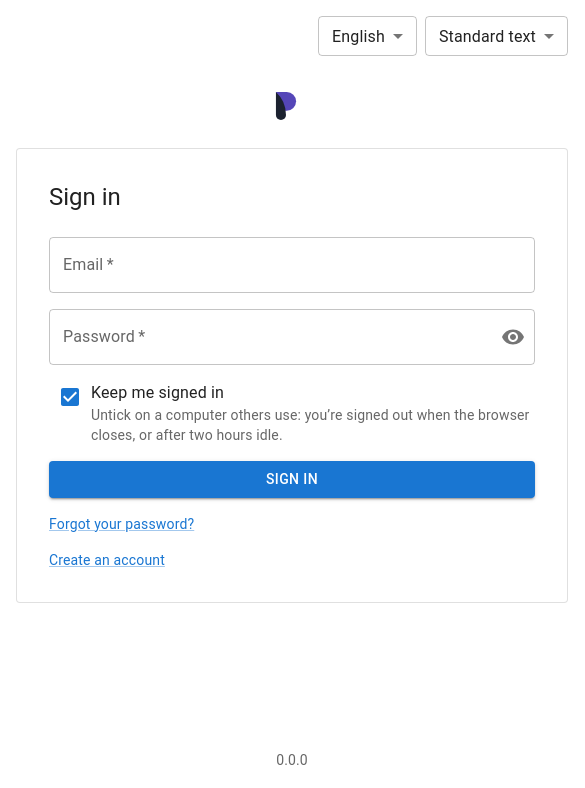
Test case: LoginPage refused as outdated › says the new version is being installed, then, once it is out, to reload
The width and height of the screenshot is (585, 788).
Step 1. Type "mei@example.com" into the field labelled "Email" → (292, 265), box [49, 237, 535, 293]
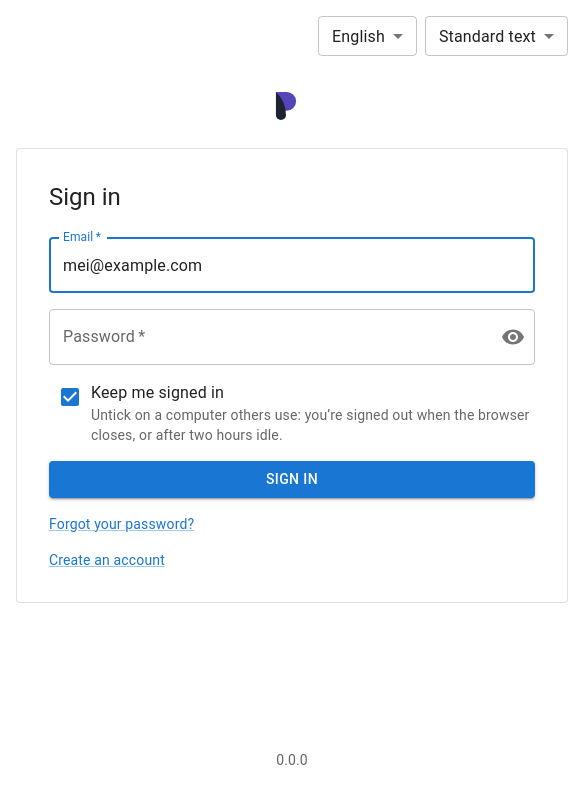
Step 2. Type "a long password" into the password field labelled "Password *" → (267, 337), box [49, 309, 485, 365]
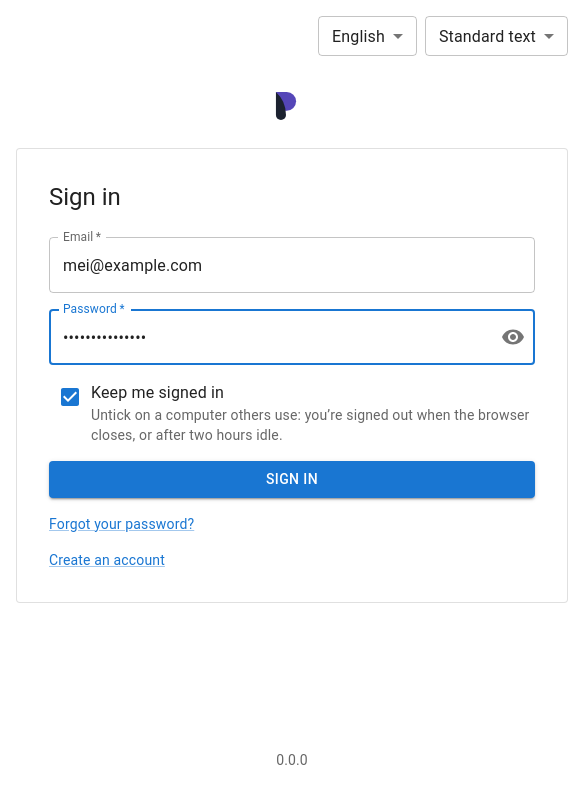
Step 3. Click the button "Sign in" → (292, 479), box [49, 461, 535, 498]
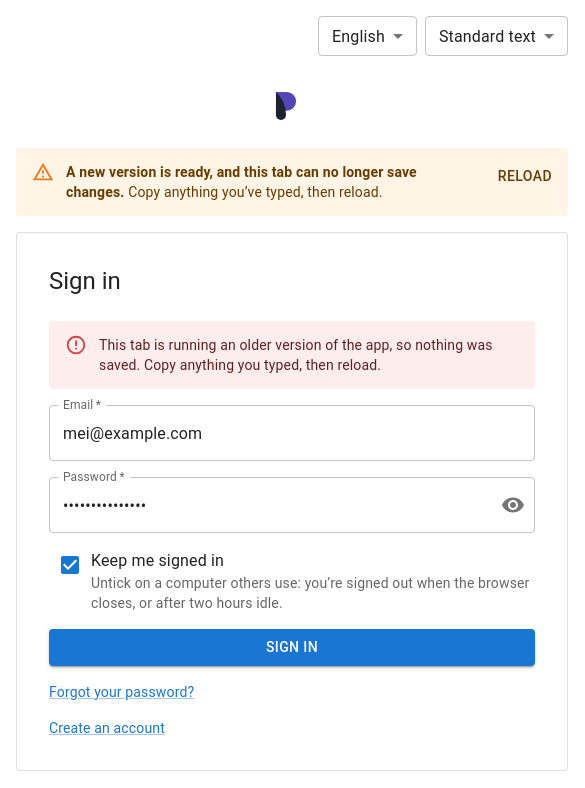
Expected: the text "A new version is being installed. Try again in a minute; nothing was saved." is shown, [99, 327, 519, 383]
Expected: the text "This tab is running an older version of the app, so nothing was saved. Copy anything you typed, then reload." is shown, [99, 337, 493, 373]
